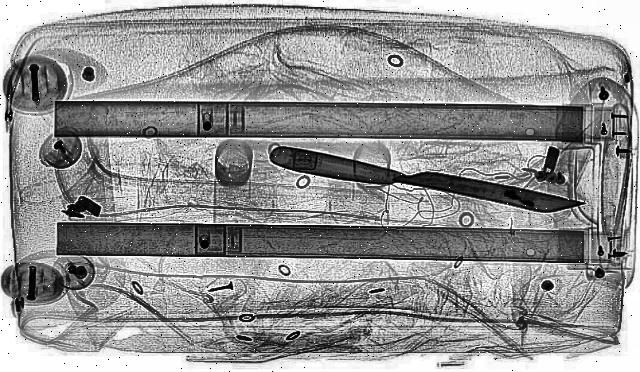Knife: (265, 145, 591, 217)
